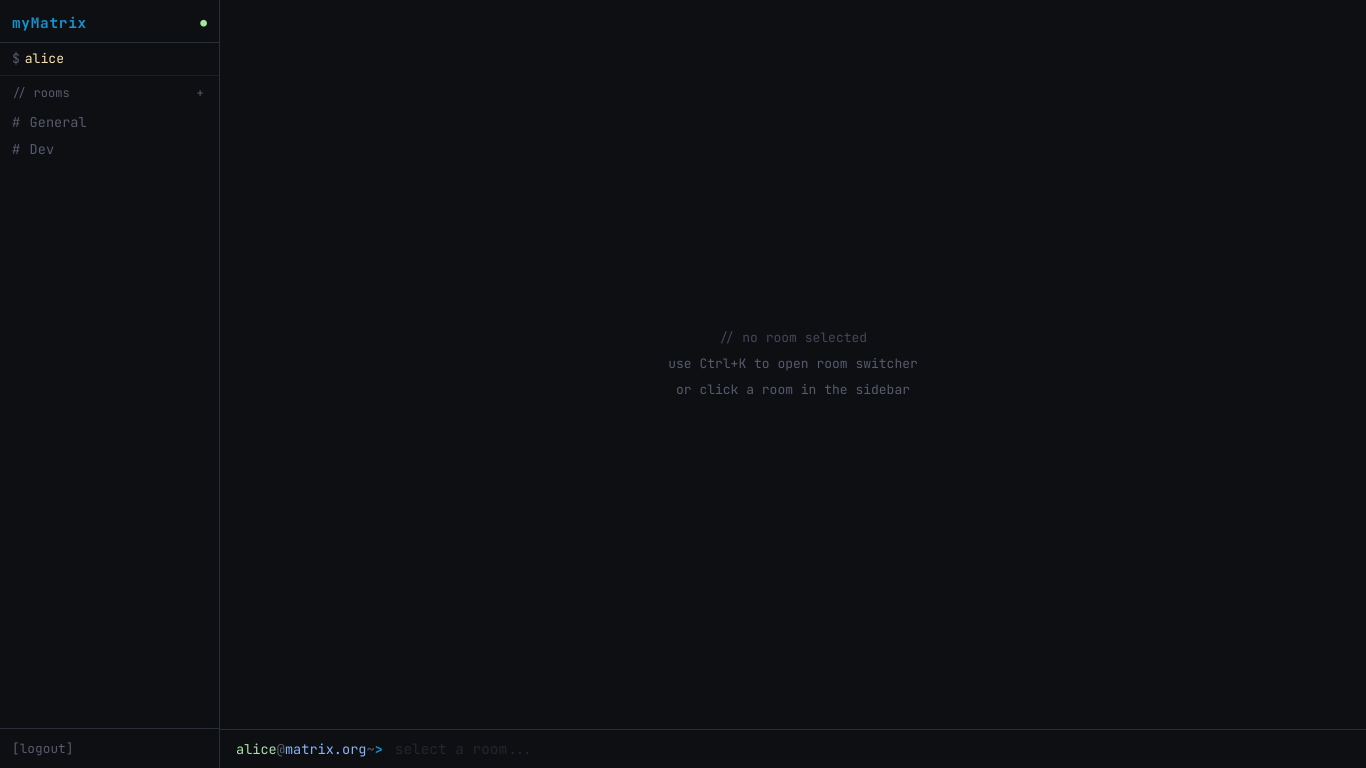
Scenario: MainLayout › opens new conversation dialog on + button click
Step 1. Click the button named "New conversation" → (200, 93), box [193,87,207,99]
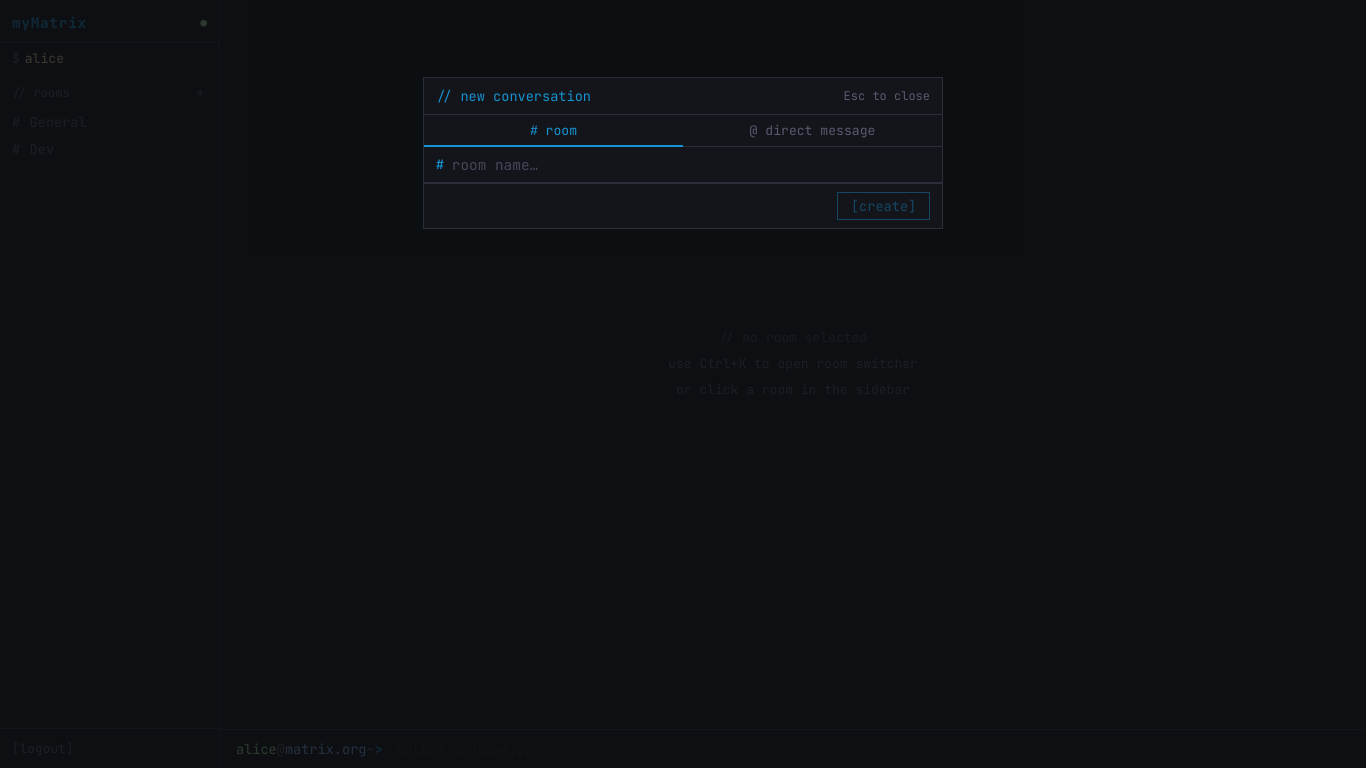
expect the text "// new conversation" is shown: met, box [436,86,591,106]
